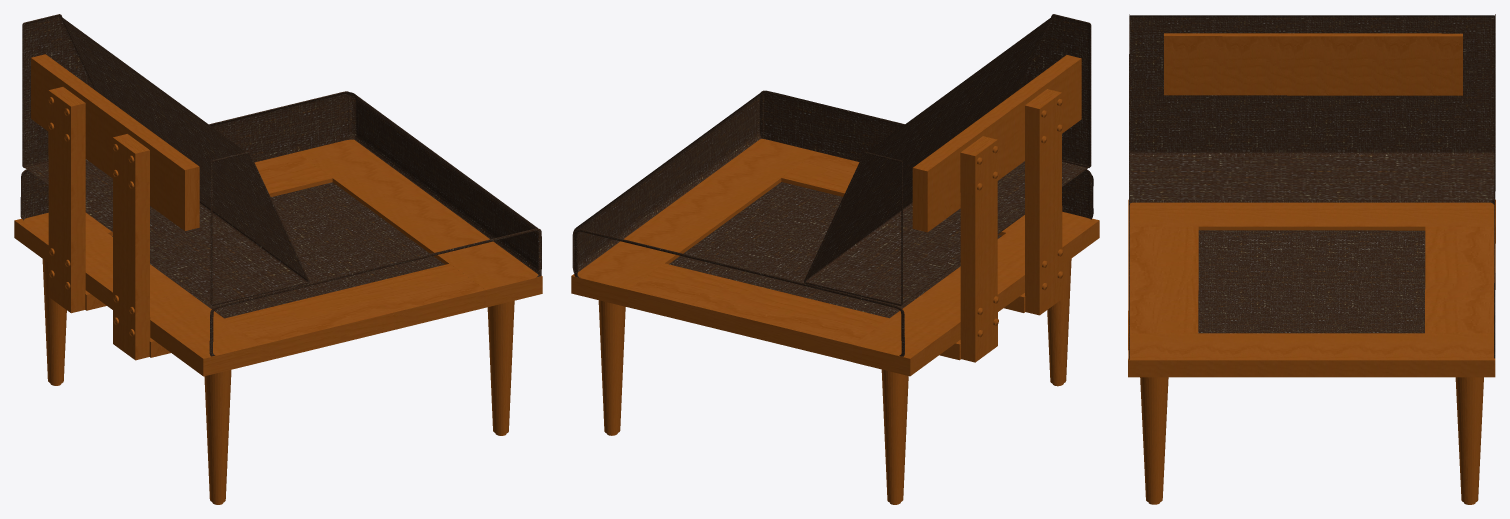
Rendered from chair3git.glb.
3 views of the same model, side by side, from view 1: azimuth 30°, elevation 25°; view 2: azimuth 150°, elevation 25°; view 3: azimuth 270°, elevation 25° (orthographic). The views are drawn at different scales.
Visible parts, largest first — view 1: Cylinder.068, Cylinder.005; view 2: Cylinder.068, Cylinder.005; view 3: Cylinder.005, Cylinder.068.
Part boxes in pixels (bbox=[...]): Cylinder.068: bbox=[14, 54, 542, 504]; Cylinder.005: bbox=[20, 14, 541, 356]; Cylinder.068: bbox=[571, 55, 1099, 504]; Cylinder.005: bbox=[572, 14, 1093, 356]; Cylinder.005: bbox=[1129, 14, 1495, 359]; Cylinder.068: bbox=[1128, 33, 1495, 504].
Size of the model in its own units: 0.8023 by 0.7618 by 0.7344.
2 materials, 2 textured.
